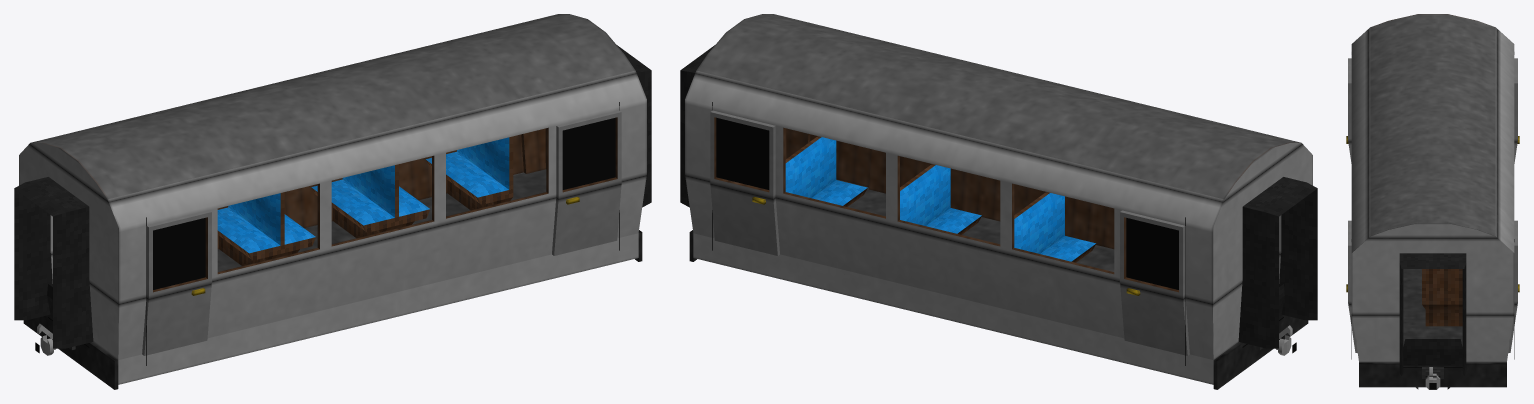
The model's file is kitsune_mk2_coach_express.obj.
3 views of the same model, side by side, from view 1: azimuth 30°, elevation 25°; view 2: azimuth 150°, elevation 25°; view 3: azimuth 270°, elevation 25° (orthographic). The views are drawn at different scales.
Parts seen in each view (by area): view 1: FRAME_body, FRAME_corridor.001, DOOR_3_EXTERNAL, DOOR_1_EXTERNAL, FRAME_body_int, FRAME_bench_middle.002, FRAME_bench_middle.001, FRAME_bench_end.002, FRAME_end1, FRAME_corridor.002, FRAME_3, FRAME_end2 (+1 smaller); view 2: FRAME_body, FRAME_corridor.001, DOOR_4_EXTERNAL, DOOR_2_EXTERNAL, FRAME_body_int, FRAME_bench_end.002, FRAME_bench_middle.002, FRAME_bench_middle.001, FRAME_end1, DOOR_3_EXTERNAL, FRAME_corridor.002, FRAME_2 (+1 smaller); view 3: FRAME_body, FRAME_end2, FRAME_bench_end.002, FRAME_corridor.002, COUPLED_REAR_4, FRAME_3, DOOR_4_EXTERNAL, DOOR_3_EXTERNAL, DOOR_1_EXTERNAL, DOOR_2_EXTERNAL, COUPLER_ENGAGED_REAR_2_TOGGLE_LABEL_Uncouple, FRAME_2.
Boxes of the visible parts, left/top/right/bottom form: FRAME_body: left=19, top=14, right=646, bottom=384; FRAME_corridor.001: left=14, top=177, right=93, bottom=348; DOOR_3_EXTERNAL: left=552, top=110, right=621, bottom=255; DOOR_1_EXTERNAL: left=142, top=210, right=211, bottom=355; FRAME_body_int: left=217, top=127, right=548, bottom=274; FRAME_bench_middle.002: left=311, top=164, right=430, bottom=238; FRAME_bench_middle.001: left=217, top=192, right=315, bottom=265; FRAME_bench_end.002: left=425, top=136, right=513, bottom=210; FRAME_end1: left=23, top=314, right=118, bottom=389; FRAME_corridor.002: left=617, top=45, right=651, bottom=207; FRAME_3: left=412, top=175, right=539, bottom=224; FRAME_end2: left=514, top=169, right=642, bottom=261; FRAME_body: left=685, top=14, right=1312, bottom=384; FRAME_corridor.001: left=1238, top=177, right=1317, bottom=348; DOOR_4_EXTERNAL: left=710, top=110, right=779, bottom=255; DOOR_2_EXTERNAL: left=1120, top=210, right=1189, bottom=355; FRAME_body_int: left=783, top=127, right=1114, bottom=274; FRAME_bench_end.002: left=785, top=136, right=867, bottom=206; FRAME_bench_middle.002: left=900, top=164, right=981, bottom=234; FRAME_bench_middle.001: left=1014, top=192, right=1096, bottom=262; FRAME_end1: left=1213, top=314, right=1308, bottom=389; DOOR_3_EXTERNAL: left=810, top=134, right=871, bottom=187; FRAME_corridor.002: left=680, top=45, right=714, bottom=207; FRAME_2: left=962, top=217, right=1114, bottom=266; FRAME_body: left=1351, top=14, right=1514, bottom=362; FRAME_end2: left=1359, top=362, right=1506, bottom=387; FRAME_bench_end.002: left=1422, top=269, right=1462, bottom=326; FRAME_corridor.002: left=1399, top=253, right=1466, bottom=375; COUPLED_REAR_4: left=1403, top=339, right=1462, bottom=365; FRAME_3: left=1403, top=289, right=1462, bottom=346; DOOR_4_EXTERNAL: left=1508, top=220, right=1519, bottom=352; DOOR_3_EXTERNAL: left=1346, top=220, right=1357, bottom=352; DOOR_1_EXTERNAL: left=1346, top=58, right=1351, bottom=163; DOOR_2_EXTERNAL: left=1514, top=58, right=1519, bottom=163; COUPLER_ENGAGED_REAR_2_TOGGLE_LABEL_Uncouple: left=1422, top=367, right=1443, bottom=389; FRAME_2: left=1403, top=269, right=1421, bottom=288.
Bounding box in the file's own units: 9.5 × 3.31 × 2.94.
Materials: 6 (6 with a texture image).
